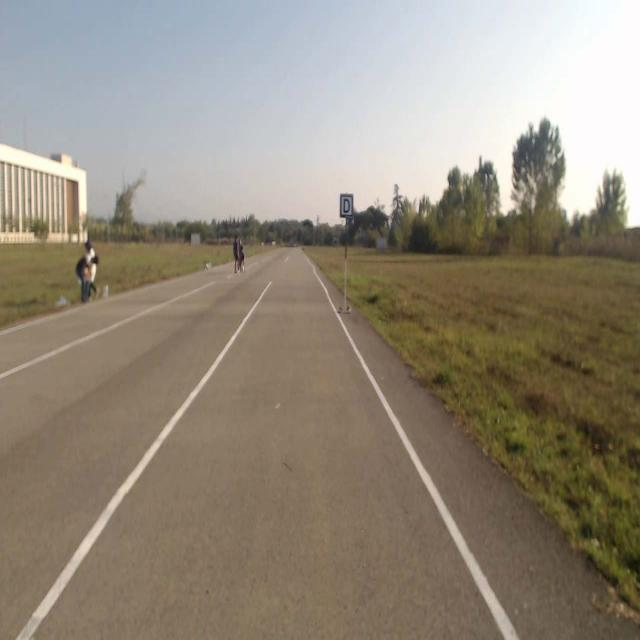durak: (340, 194, 352, 216)
